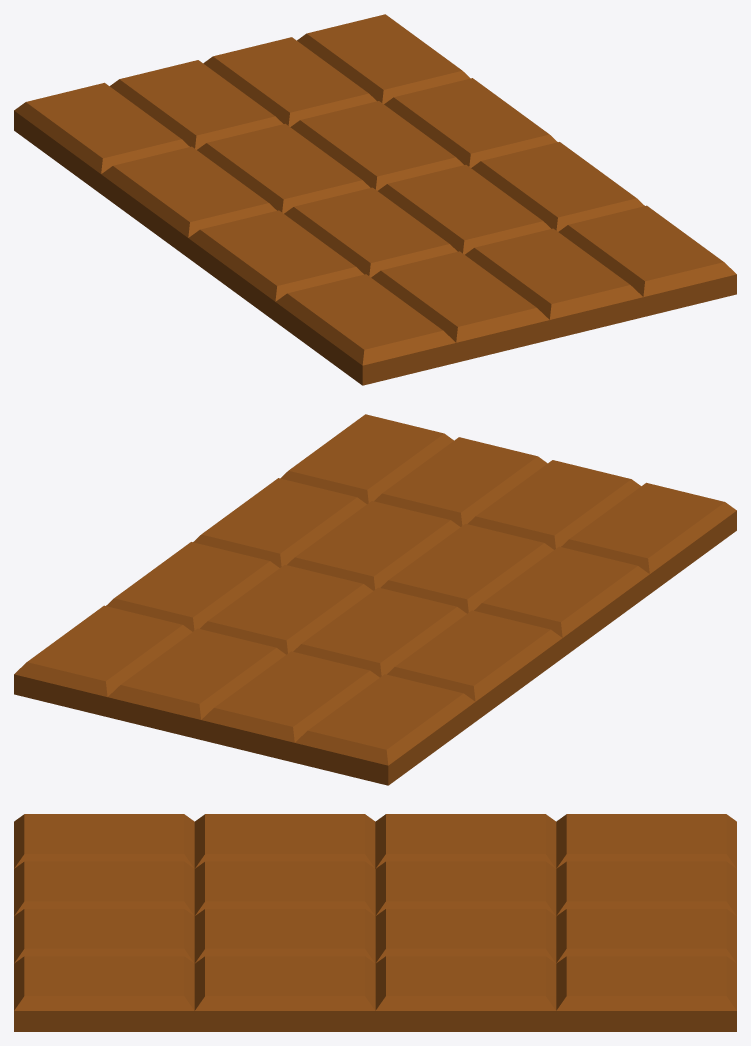
Rendered from FINAL_CHOCOLATE_BAR.fbx.
3 views of the same model, one above another, from view 1: azimuth 30°, elevation 25°; view 2: azimuth 150°, elevation 25°; view 3: azimuth 270°, elevation 25° (orthographic). The views are drawn at different scales.
Visible parts, largest first — view 1: Plane; view 2: Plane; view 3: Plane.
Boxes of the visible parts, left/top/right/bottom form: Plane: left=14, top=14, right=736, bottom=385; Plane: left=14, top=414, right=736, bottom=785; Plane: left=14, top=814, right=736, bottom=1031.
Bounding box in the file's own units: 242 × 18.92 × 391.
